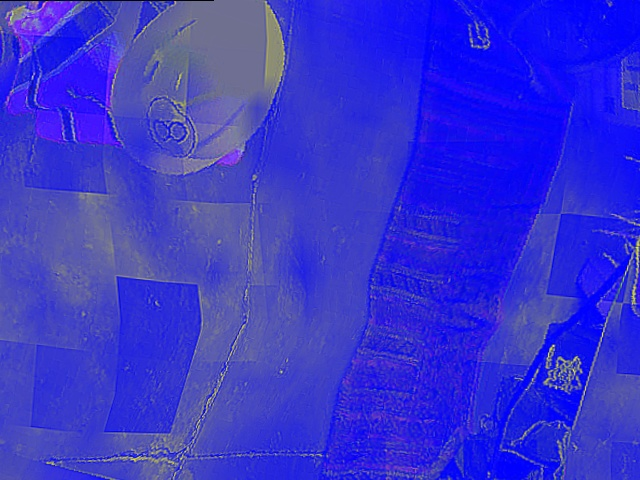eight: (134, 93, 206, 163)
